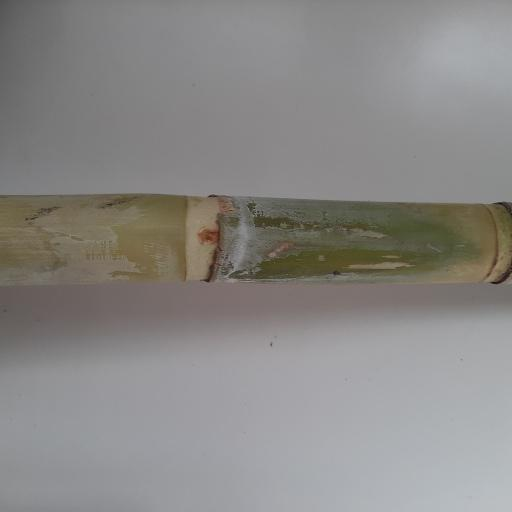Damage_Bud: (196, 226, 219, 246)
